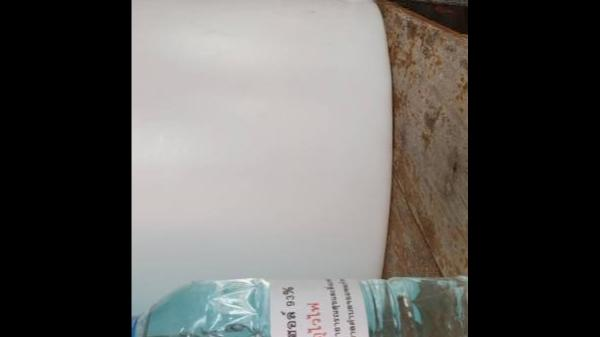bottle: (131, 267, 468, 337)
